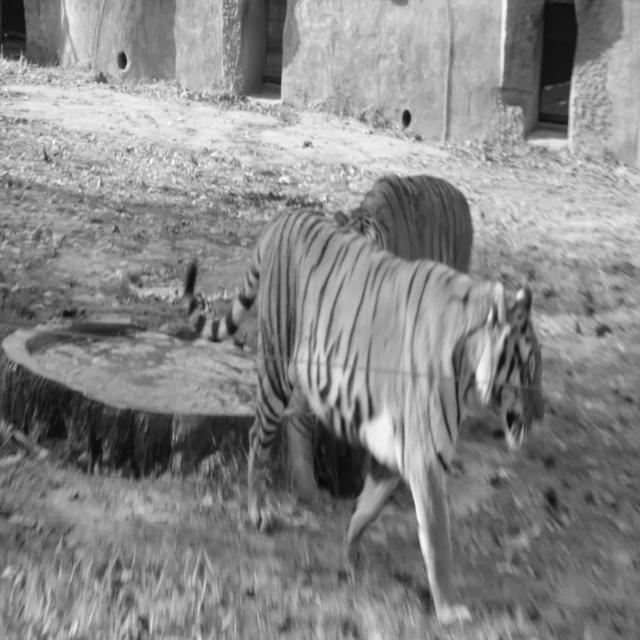Tiger: (178, 196, 545, 627)
